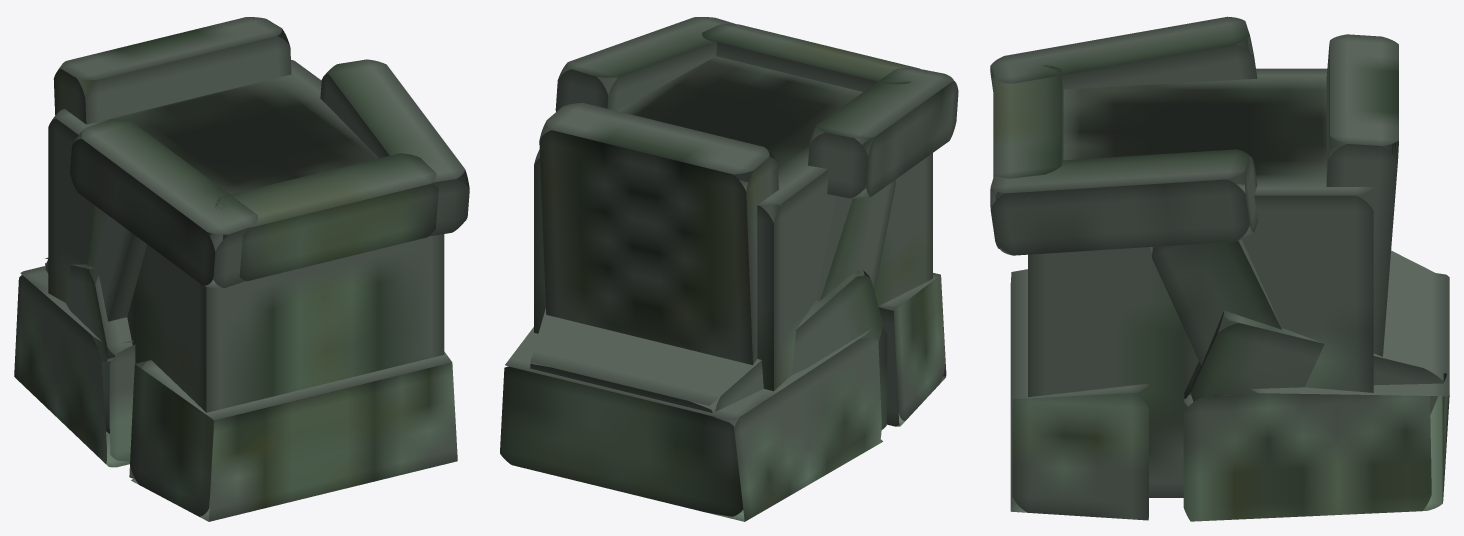
File: hazard_kit_b_r.obj
3 views of the same model, side by side, from view 1: azimuth 30°, elevation 25°; view 2: azimuth 150°, elevation 25°; view 3: azimuth 270°, elevation 25° (orthographic). The views are drawn at different scales.
Parts seen in each view (by area): view 1: cube; view 2: cube; view 3: cube.
Part boxes in pixels (bbox=[...]): cube: bbox=[14, 17, 469, 521]; cube: bbox=[500, 17, 958, 521]; cube: bbox=[990, 16, 1449, 521].
Bounding box in the file's own units: 0.3519 × 0.3565 × 0.4171.
